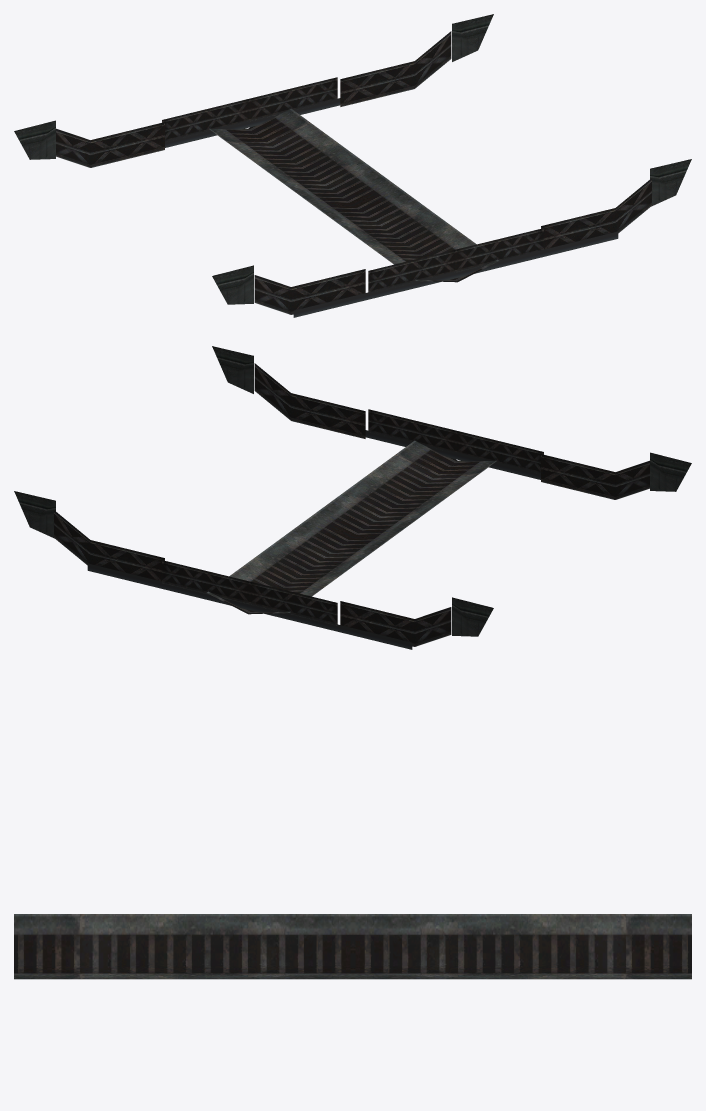
The model's file is tunnel-beam.glb.
3 renders of one model, top to bottom at view 1: azimuth 30°, elevation 25°; view 2: azimuth 150°, elevation 25°; view 3: azimuth 270°, elevation 25°, orthographic. The views are drawn at different scales.
Visible parts, largest first — view 1: XO_TUNNELBEAMA_1C_MM_00; view 2: XO_TUNNELBEAMA_1C_MM_00; view 3: XO_TUNNELBEAMA_1C_MM_00.
Part boxes in pixels (x1=…): XO_TUNNELBEAMA_1C_MM_00: x1=14, y1=14, x2=691, y2=317; XO_TUNNELBEAMA_1C_MM_00: x1=14, y1=346, x2=691, y2=649; XO_TUNNELBEAMA_1C_MM_00: x1=14, y1=914, x2=691, y2=979.
Size of the model in its own units: 23.84 by 2.89 by 18.06.
Materials: 2 (2 with a texture image).
